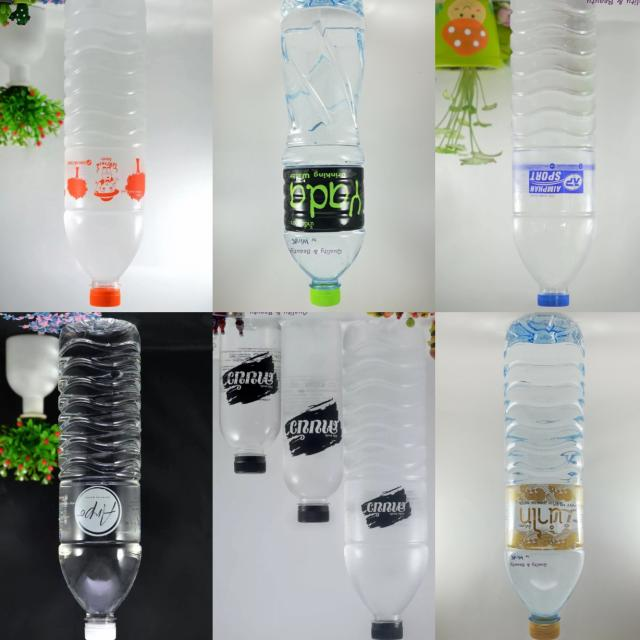plastik: (343, 318, 428, 640), (59, 318, 141, 640), (510, 0, 596, 307), (504, 315, 585, 640), (281, 0, 364, 307), (64, 0, 147, 307), (282, 320, 343, 523), (220, 320, 281, 474)
